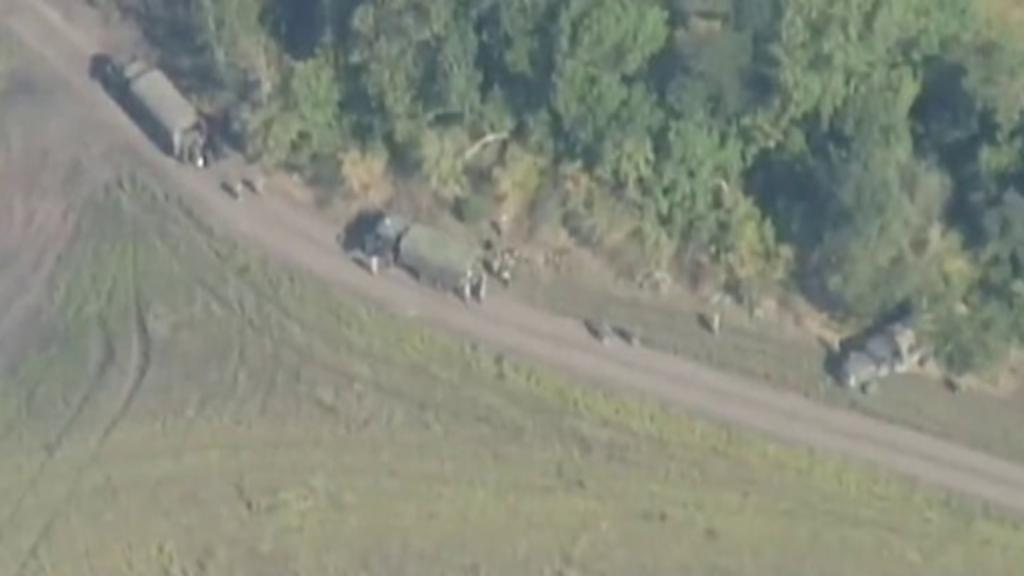TRUCK: (98, 46, 208, 160), (834, 298, 958, 397), (362, 205, 482, 301)
